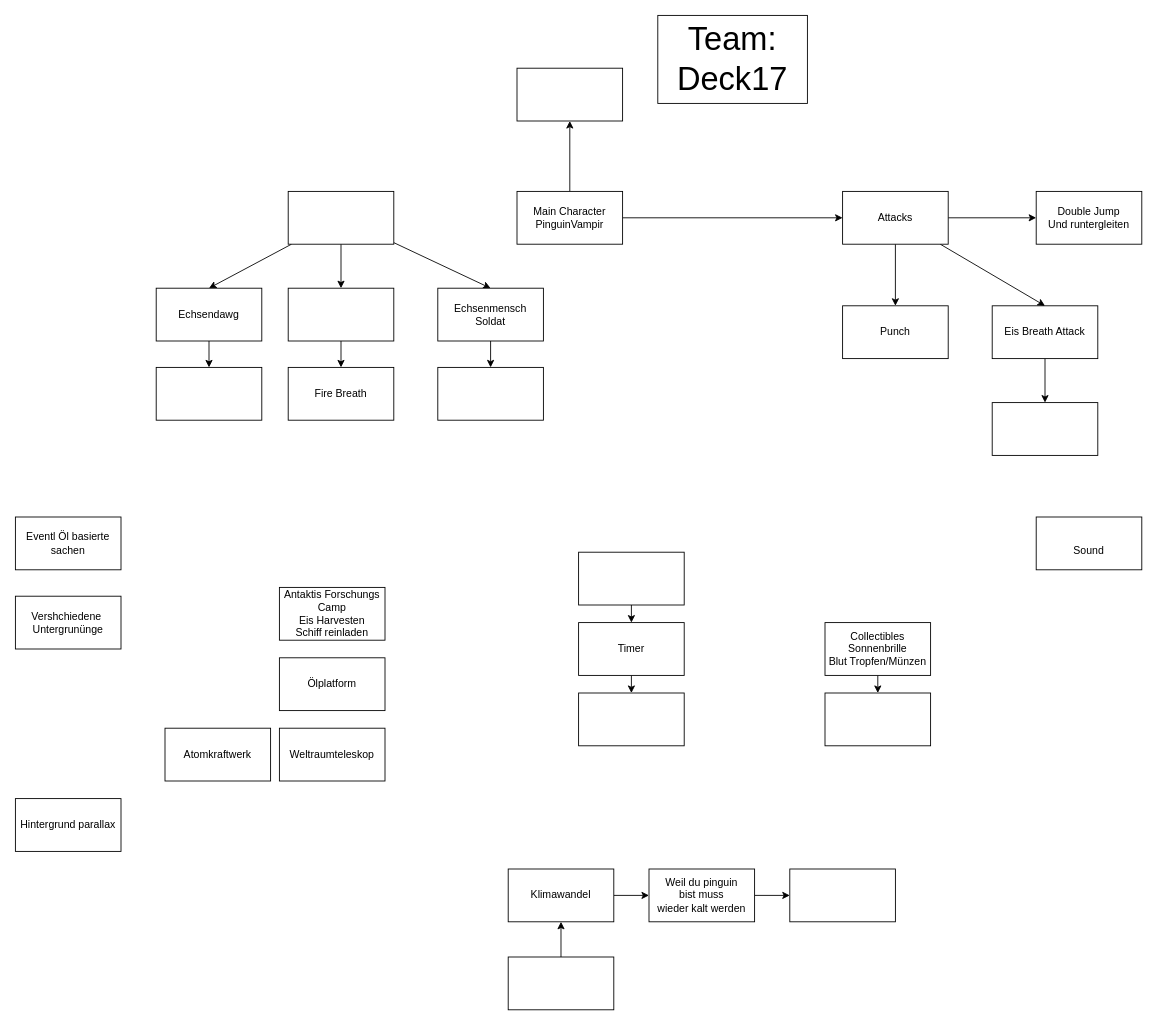
This 1157x1025 diagram has some shape labels left out. Here are the shapes that lost their labels. From the top down, the centre of each, then its label:
At (x=569, y=94): "Titel: Cold Blooded".
At (x=340, y=217): "Gegner".
At (x=340, y=314): "Echesnmensch Wissenschaftler".
At (x=208, y=393): "Can i pet da dog?".
At (x=490, y=393): "Knarre".
At (x=1044, y=428): "Gegner eingefroren und man kann ihn rumschieben".
At (x=631, y=578): "2DPlatformer".
At (x=631, y=719): "Core -> Ziel wie mario flagge".
At (x=877, y=719): "Overlay Shop".
At (x=842, y=895): "Dazu Echesenmenschen Abschlachten".
At (x=560, y=983): "Story".
